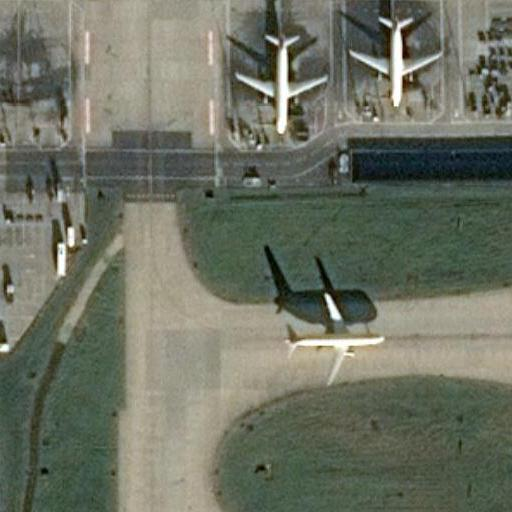Aircraft: (282, 289, 386, 387), (232, 30, 326, 133), (348, 14, 442, 107)
